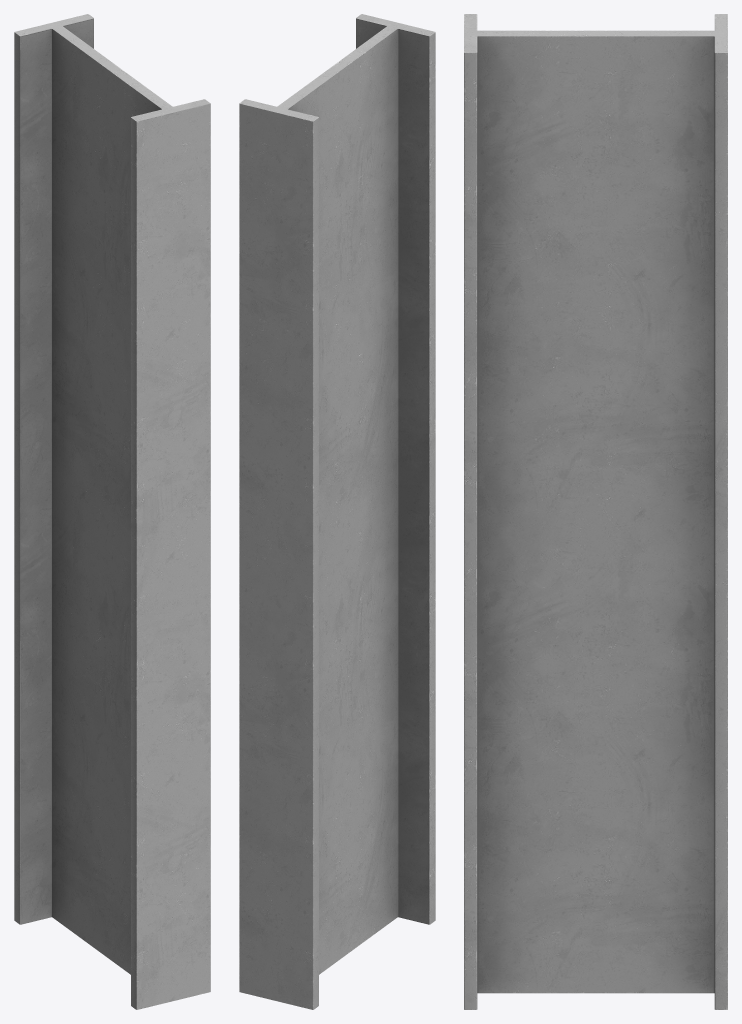
Rendered from StructuralBeam_01.FBX.
The picture shows the model from 3 angles, left to right: view 1: azimuth 30°, elevation 25°; view 2: azimuth 150°, elevation 25°; view 3: azimuth 270°, elevation 25°; orthographic projection. The views are drawn at different scales.
Parts seen in each view (by area): view 1: StructuralBeam_01; view 2: StructuralBeam_01; view 3: StructuralBeam_01.
Boxes of the visible parts, x1,y1,x2,y2 form: StructuralBeam_01: (14,14,210,1009); StructuralBeam_01: (239,14,435,1009); StructuralBeam_01: (464,14,727,1009).
Size of the model in its own units: 35 by 400 by 100.
